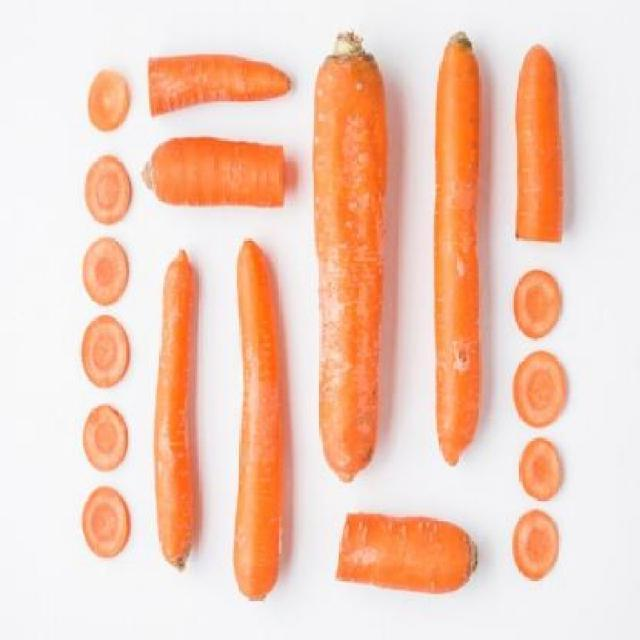carrot: (308, 28, 399, 489), (425, 23, 489, 457), (226, 238, 293, 612), (151, 249, 203, 600), (506, 22, 570, 263), (336, 504, 477, 606), (143, 133, 299, 217), (151, 43, 296, 123)
